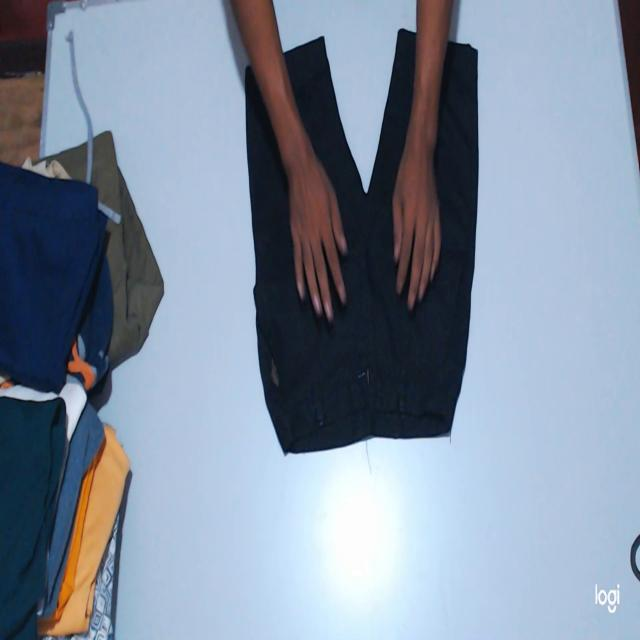new-garment: (245, 30, 478, 453)
